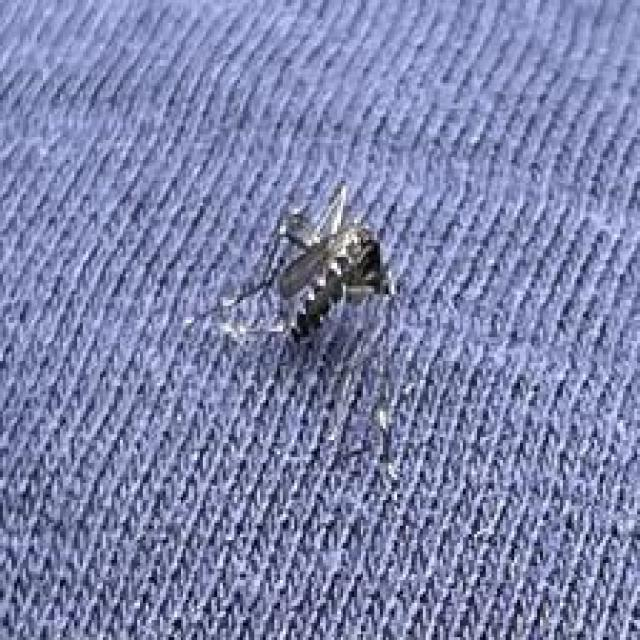Aedes albopictus: (183, 177, 397, 352)
